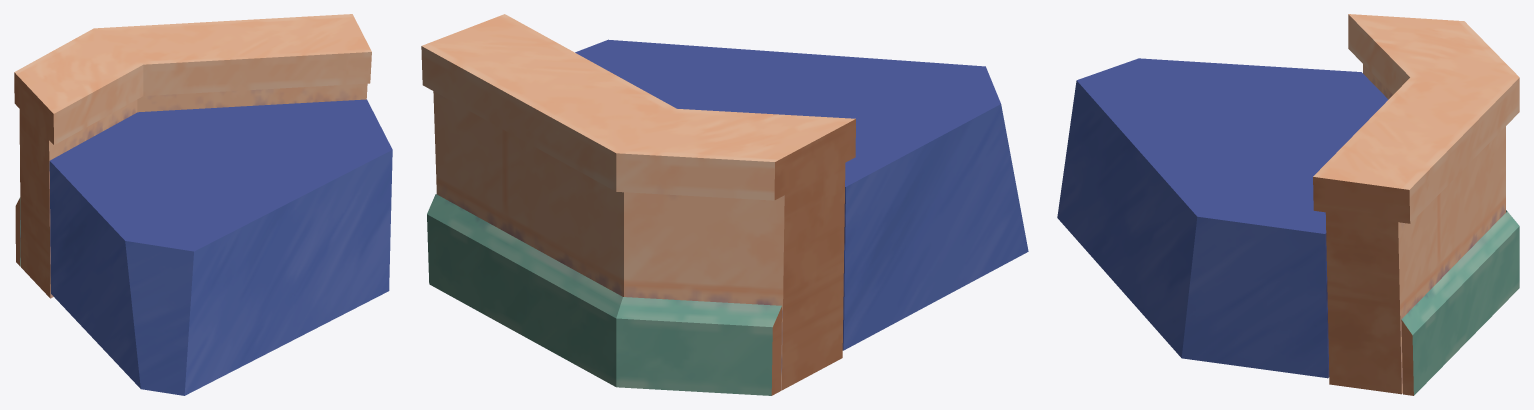
File: vat_indigo_s01.fbx
3 renders of one model, left to right at view 1: azimuth 30°, elevation 25°; view 2: azimuth 150°, elevation 25°; view 3: azimuth 270°, elevation 25°, orthographic. The views are drawn at different scales.
Visible parts, largest first — view 1: vat_indigo_s01; view 2: vat_indigo_s01; view 3: vat_indigo_s01.
Boxes of the visible parts, <box> form: vat_indigo_s01: <box>14,14,392,395</box>; vat_indigo_s01: <box>421,14,1028,395</box>; vat_indigo_s01: <box>1057,14,1519,395</box>.
Size of the model in its own units: 3.3 by 1.7 by 3.38.
